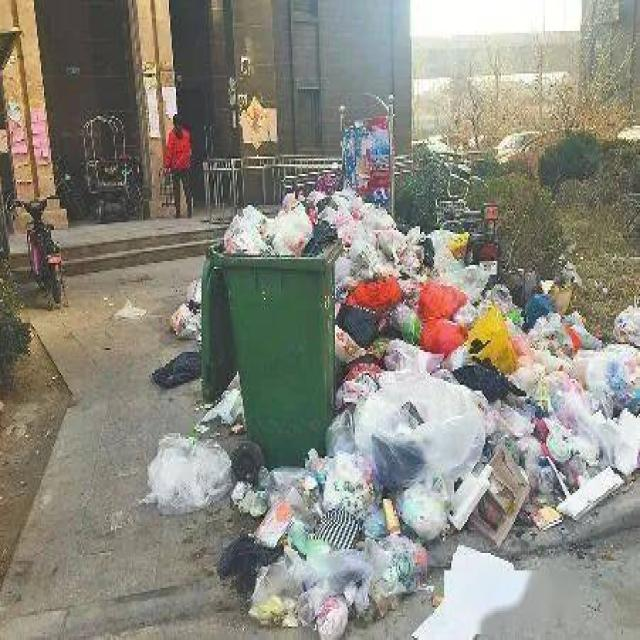garbage: (115, 172, 639, 638)
overflow: (198, 199, 340, 466)
